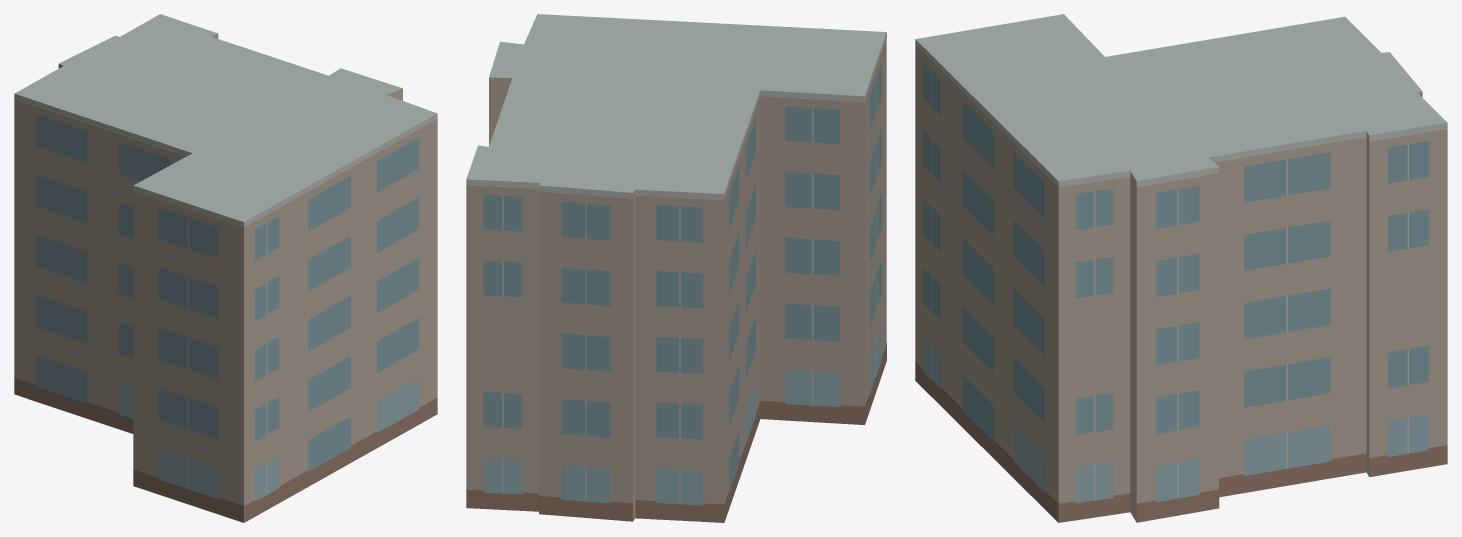
The model's file is survey-upis-33018585.glb.
3 renders of one model, left to right at view 1: azimuth 30°, elevation 25°; view 2: azimuth 150°, elevation 25°; view 3: azimuth 270°, elevation 25°, orthographic. The views are drawn at different scales.
Parts seen in each view (by area): view 1: survey-upis-33018585.tmp; view 2: survey-upis-33018585.tmp; view 3: survey-upis-33018585.tmp.
Boxes of the visible parts, bbox=[...] form: survey-upis-33018585.tmp: bbox=[14, 14, 437, 522]; survey-upis-33018585.tmp: bbox=[466, 14, 886, 522]; survey-upis-33018585.tmp: bbox=[915, 14, 1447, 522].
Bounding box in the file's own units: 13.77 × 13.1 × 18.51.
